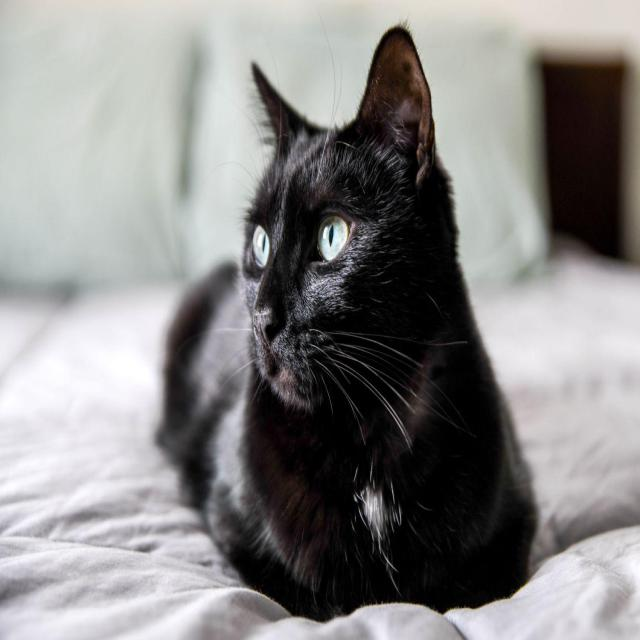Cat: (230, 23, 446, 422)
